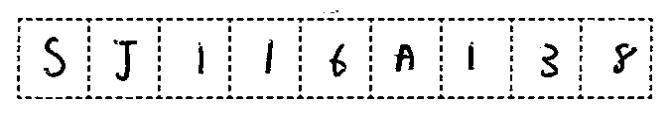1: (254, 36, 286, 82), (453, 36, 487, 77), (184, 40, 215, 78)
3: (531, 39, 567, 83)
6: (320, 38, 358, 80)
8: (604, 38, 642, 79)
A: (391, 38, 422, 76)
J: (106, 34, 145, 86)
S: (38, 32, 71, 84)
